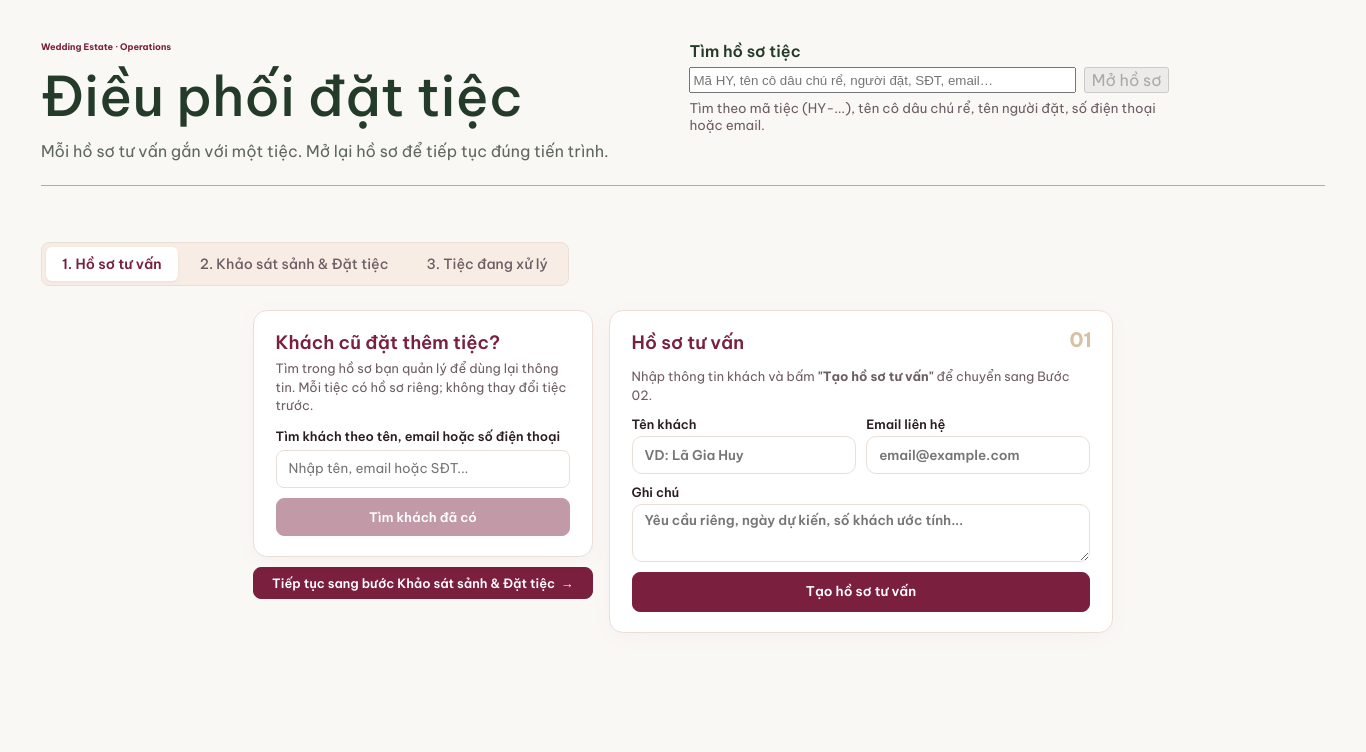
Management booking lifecycle workspace › clears the displayed proposal when template loading loses authenticated access
The width and height of the screenshot is (1366, 752).
In the search field labelled "Tìm hồ sơ tiệc": (883, 80) x1=689 y1=67 x2=1076 y2=93, type "00000000-0000-4000-8000-000000000101"
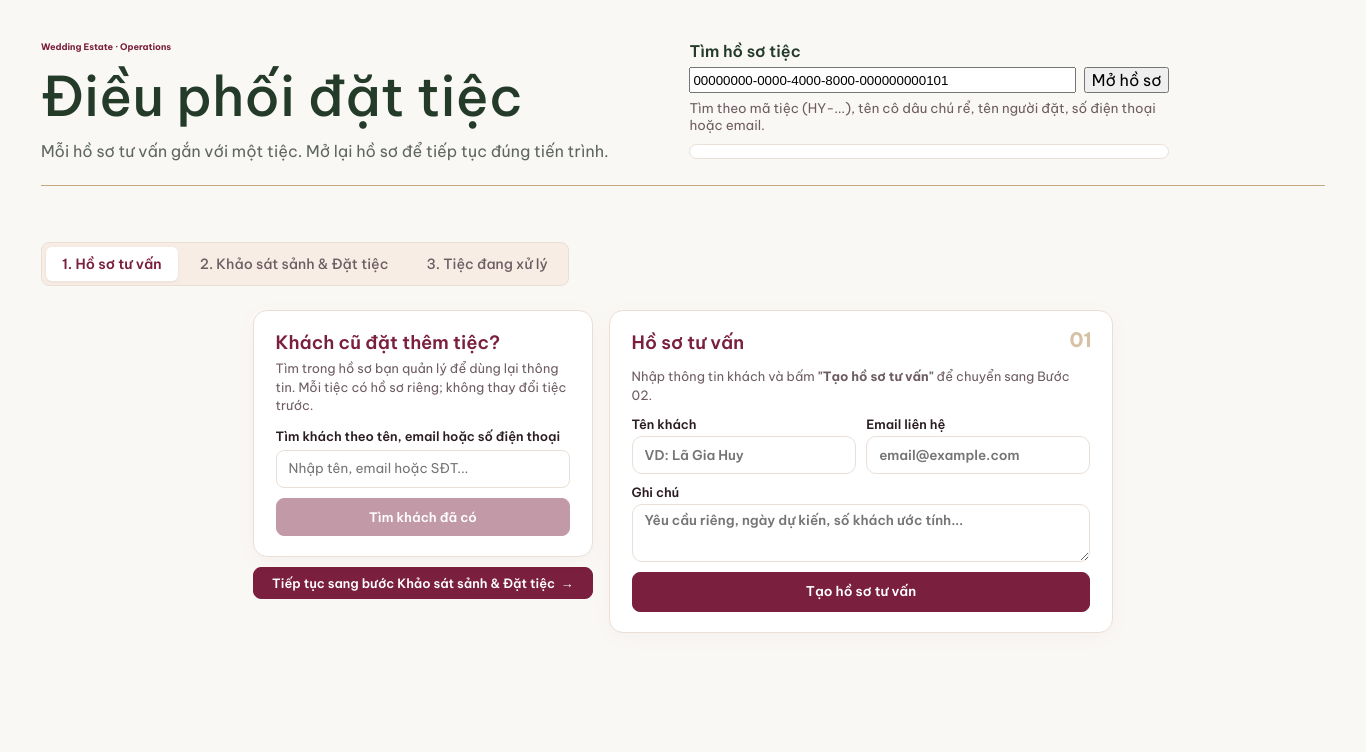
Click the button "Mở hồ sơ": (1127, 80) x1=1084 y1=67 x2=1169 y2=93
(page scrolled)
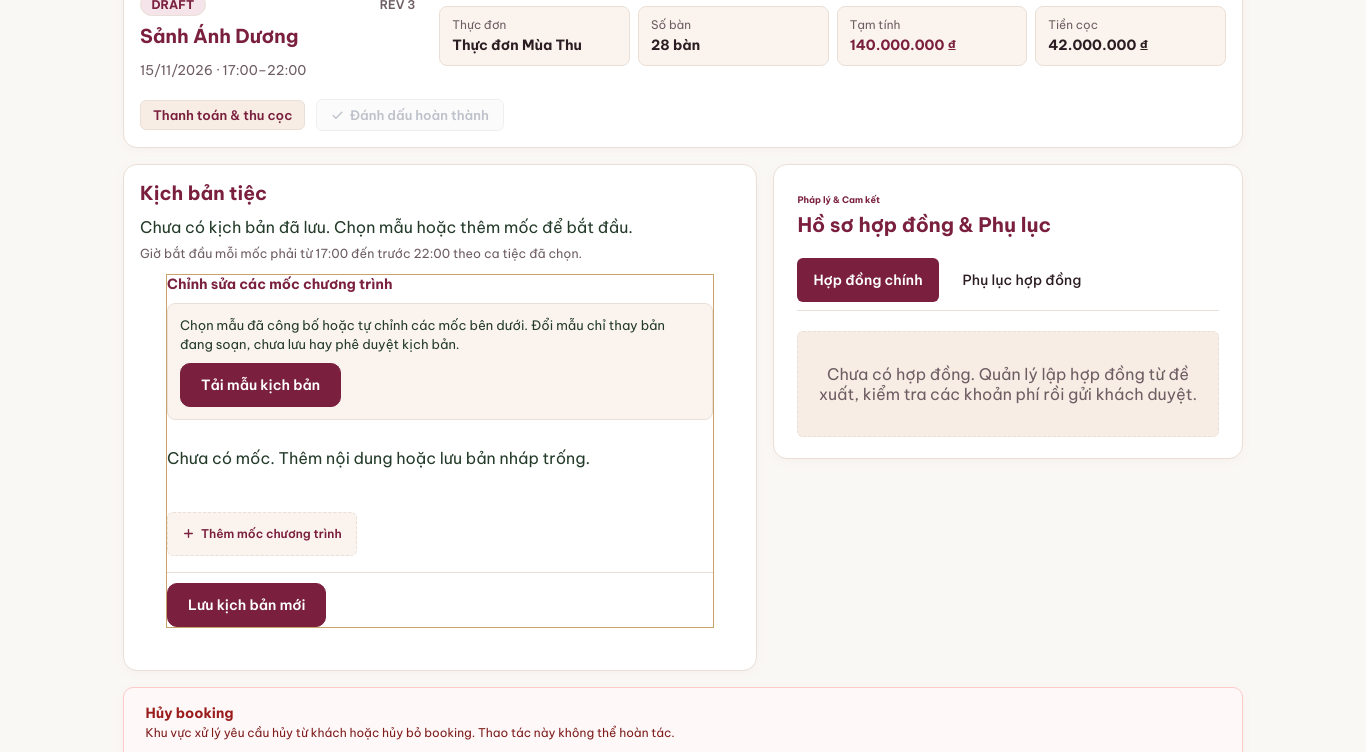
Check: the heading "Sảnh Ánh Dương" is shown, box x1=140 y1=24 x2=298 y2=48
Click the button "Tải mẫu kịch bản": (261, 385) x1=180 y1=363 x2=341 y2=407
(page scrolled)
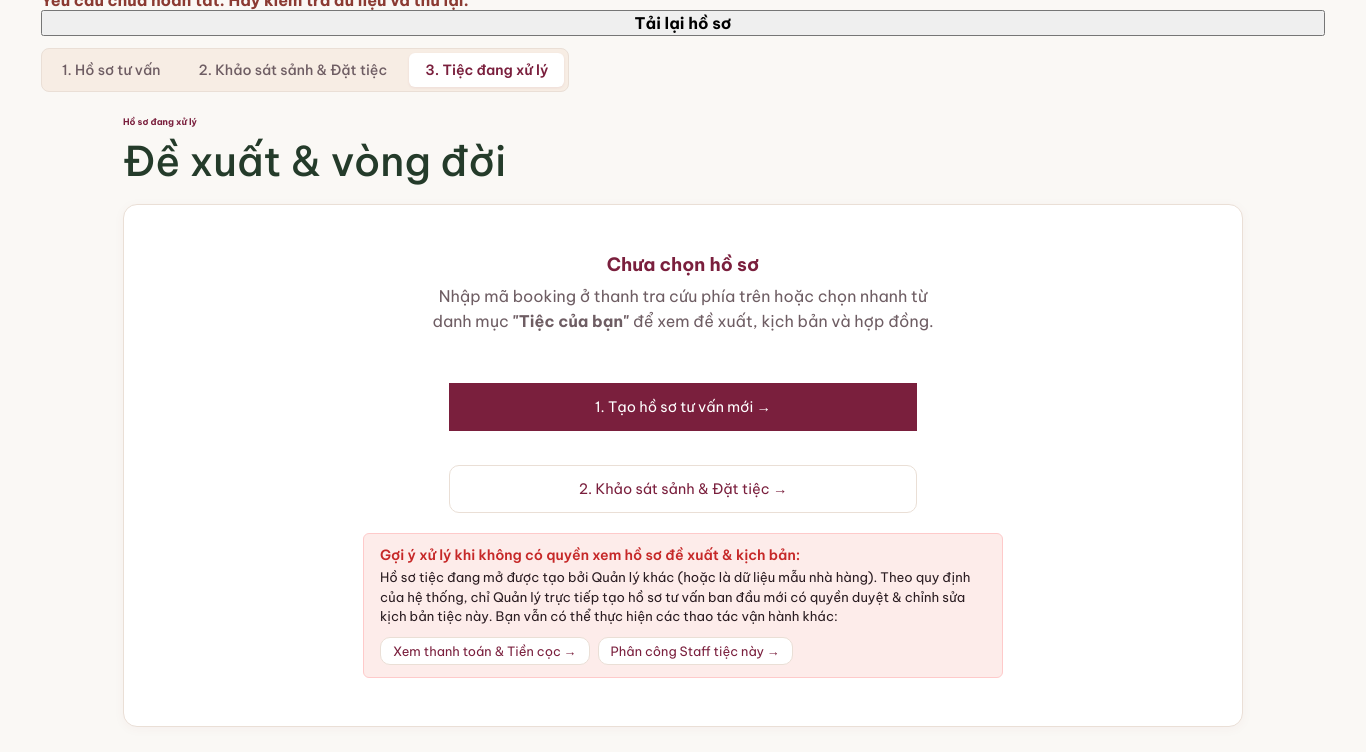
Check: the heading "Sảnh Ánh Dương" is gone
Check: the text "Chưa chọn hồ sơ" is shown, box x1=607 y1=253 x2=759 y2=276
